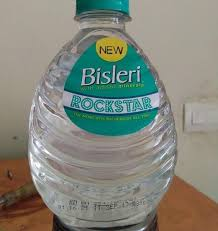Bisleri: (78, 64, 145, 88), (81, 115, 144, 133)
plastic: (58, 55, 167, 227)
